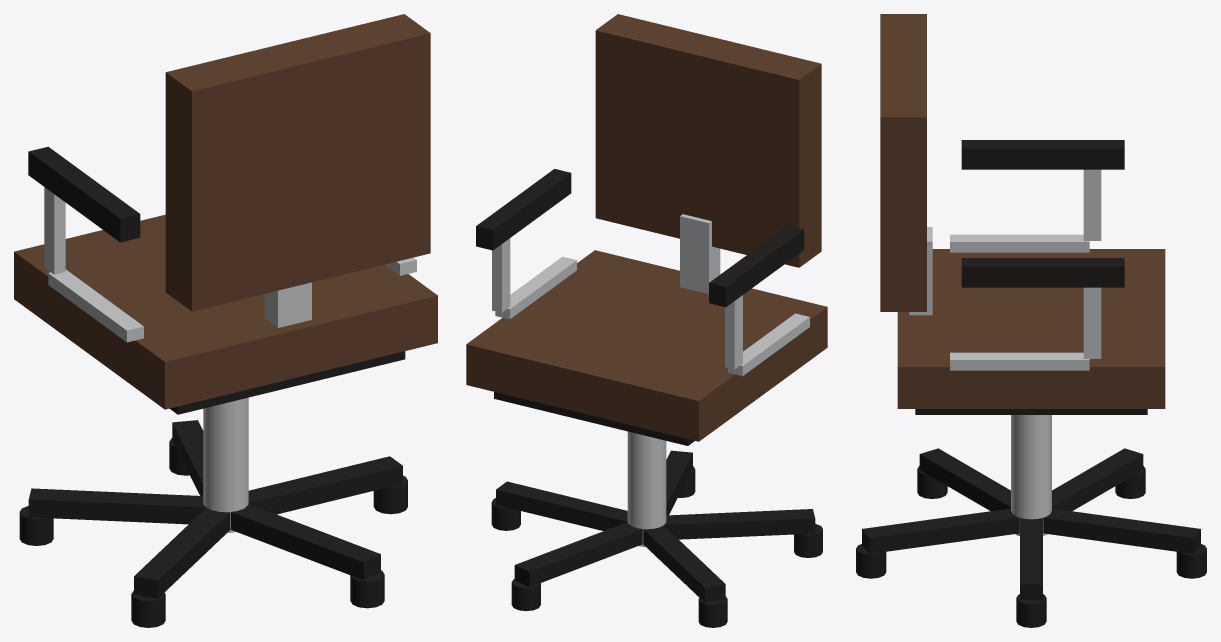
File: SM_OfficeChair80s.glb
3 views of the same model, side by side, from view 1: azimuth 30°, elevation 25°; view 2: azimuth 150°, elevation 25°; view 3: azimuth 270°, elevation 25° (orthographic). The views are drawn at different scales.
Visible parts, largest first — view 1: SM_OfficeChair80s; view 2: SM_OfficeChair80s; view 3: SM_OfficeChair80s.
Part boxes in pixels (x1,y1,x2,y2): SM_OfficeChair80s: [14, 14, 437, 627]; SM_OfficeChair80s: [466, 14, 827, 627]; SM_OfficeChair80s: [856, 14, 1206, 627].
Bounding box in the file's own units: 0.7611 × 1.21 × 0.7968.
